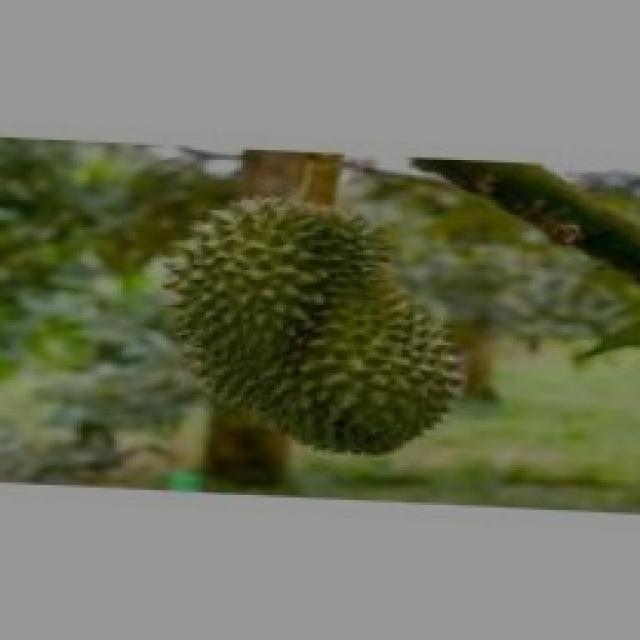fruit: (126, 155, 499, 477)
